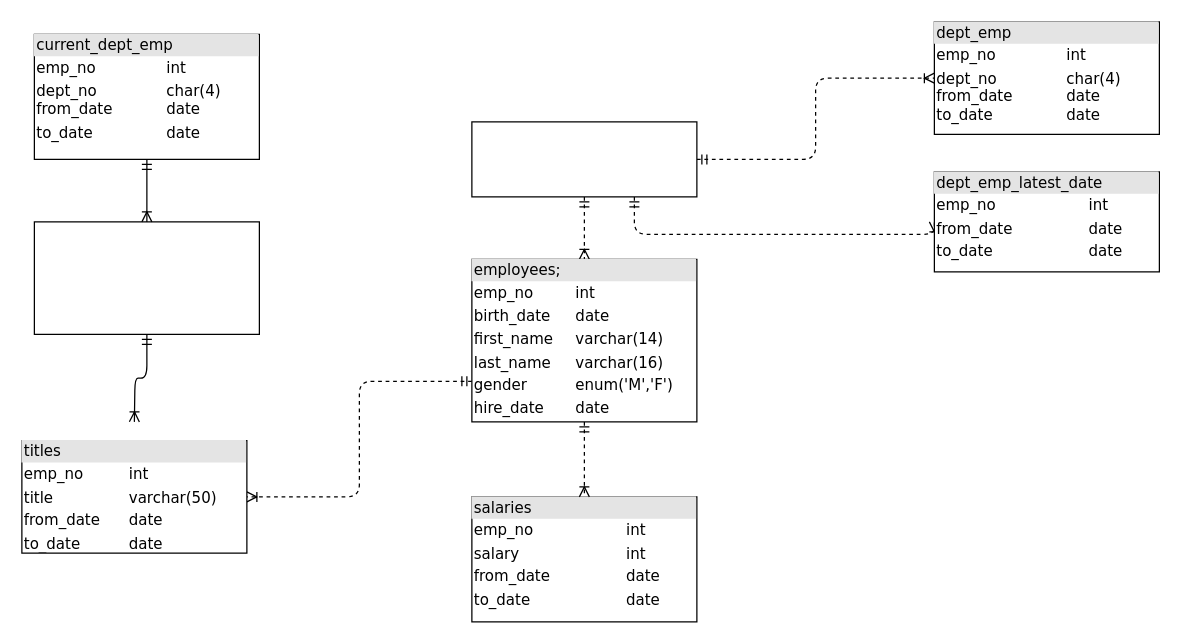
Image size: 1181x644. Some labels were removed from this diagram. Each missing label, with the centre of its shape:
departments dept_no char(4) dept_name varchar(40): (x=584, y=159)
dept_manager PK uniqueId FK1 foreignKey fieldname: (x=146, y=277)
